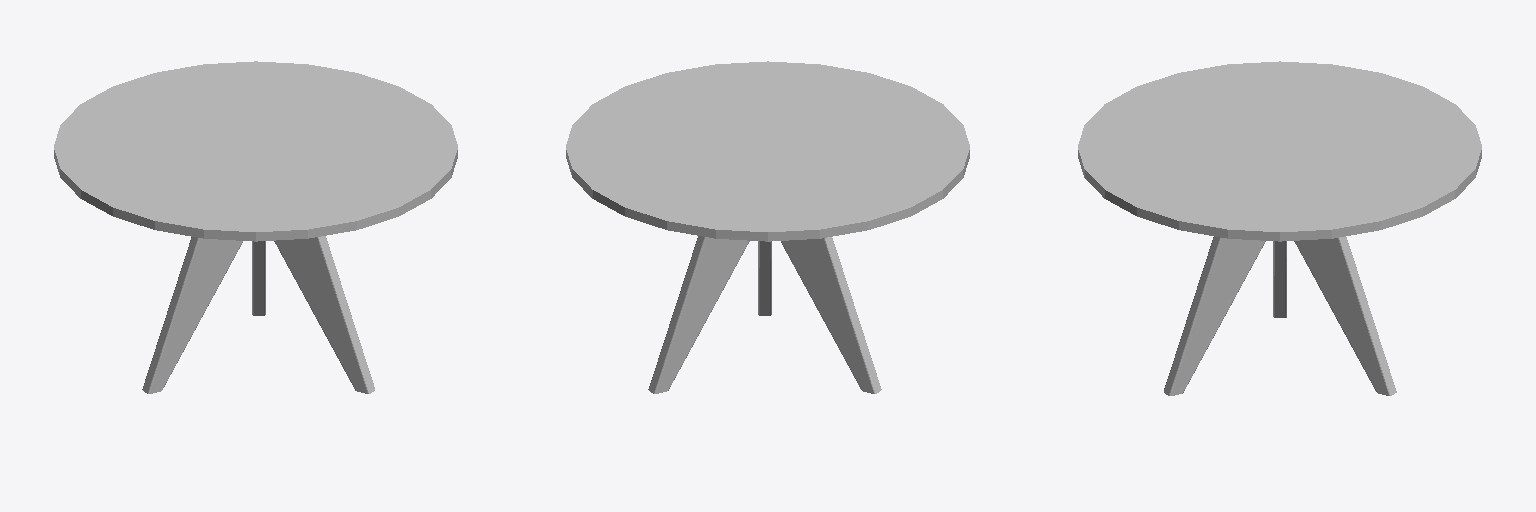
The model's file is mesa_2.obj.
3 views of the same model, side by side, from view 1: azimuth 30°, elevation 25°; view 2: azimuth 150°, elevation 25°; view 3: azimuth 270°, elevation 25° (orthographic).
Visible parts, largest first — view 1: Group_001, __4_2_001; view 2: Group_001, __4_2_001; view 3: Group_001, __4_2_001.
Boxes of the visible parts, x1,y1,x2,y2 form: Group_001: [54, 61, 457, 241]; __4_2_001: [142, 236, 374, 393]; Group_001: [566, 61, 969, 241]; __4_2_001: [648, 236, 881, 393]; Group_001: [1078, 61, 1481, 241]; __4_2_001: [1164, 236, 1396, 395].
Bounding box in the file's own units: 1.2 × 0.7129 × 1.2.